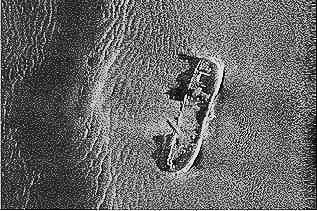ship: (165, 56, 226, 174)
